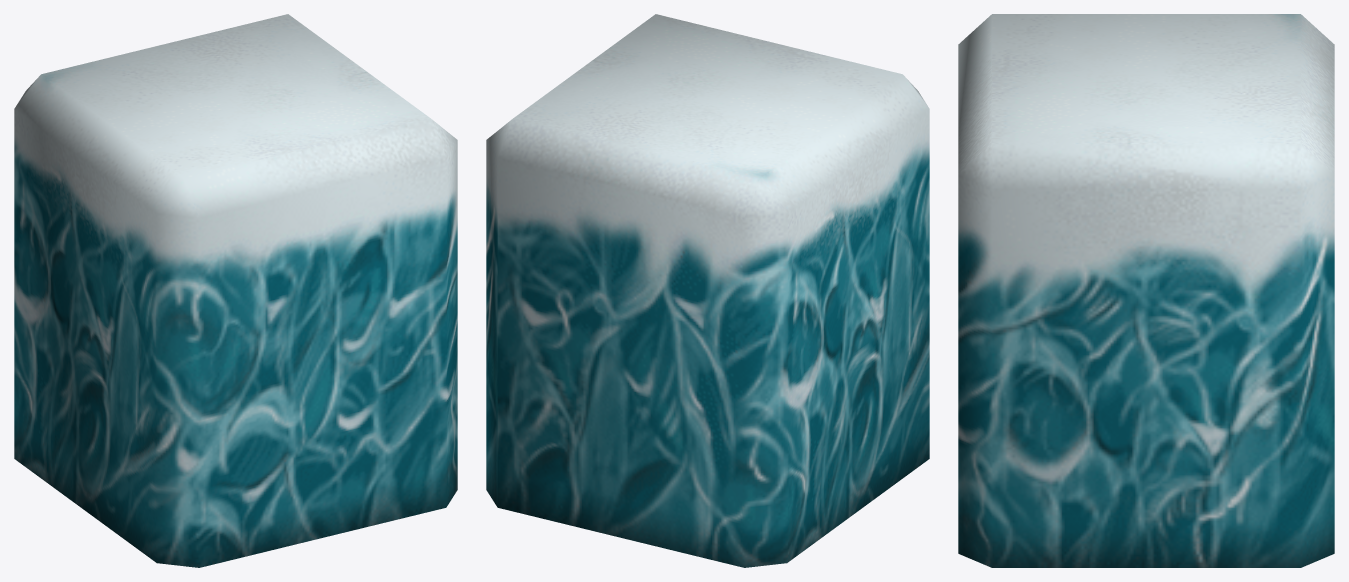
File: Block.dae
3 views of the same model, side by side, from view 1: azimuth 30°, elevation 25°; view 2: azimuth 150°, elevation 25°; view 3: azimuth 270°, elevation 25° (orthographic). The views are drawn at different scales.
Visible parts, largest first — view 1: iceblock; view 2: iceblock; view 3: iceblock.
Boxes of the visible parts, x1=… form: iceblock: x1=14, y1=14, x2=457, y2=567; iceblock: x1=486, y1=14, x2=929, y2=567; iceblock: x1=958, y1=14, x2=1334, y2=567.
Bounding box in the file's own units: 1 × 1.2 × 1.
1 material, 1 textured.
